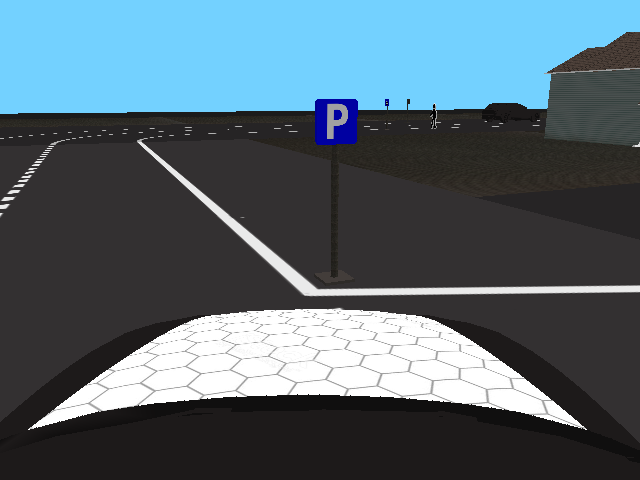parking: (315, 99, 358, 145)
